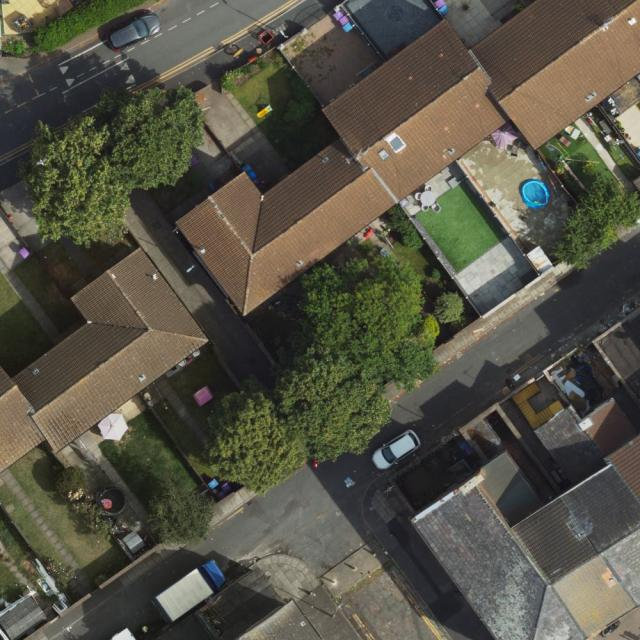roof: (175, 0, 640, 317), (410, 400, 640, 640), (0, 246, 211, 473)
skylight: (384, 131, 409, 156), (375, 147, 391, 163)
